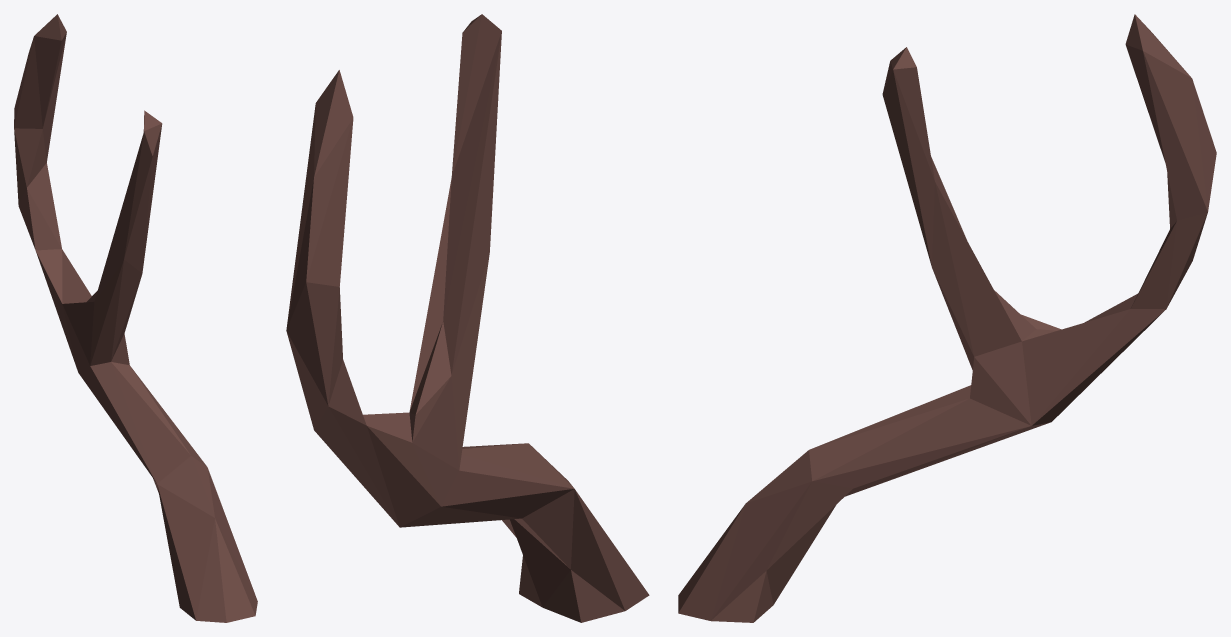
Rendered from Willow_Dead_3.lod2.glb.
3 renders of one model, left to right at view 1: azimuth 30°, elevation 25°; view 2: azimuth 150°, elevation 25°; view 3: azimuth 270°, elevation 25°, orthographic. The views are drawn at different scales.
Visible parts, largest first — view 1: Willow_Dead_3; view 2: Willow_Dead_3; view 3: Willow_Dead_3.
Part boxes in pixels (bbox=[...]): Willow_Dead_3: bbox=[14, 14, 257, 622]; Willow_Dead_3: bbox=[286, 14, 649, 622]; Willow_Dead_3: bbox=[678, 14, 1216, 622].
Bounding box in the file's own units: 0.2833 × 1.91 × 1.58.
